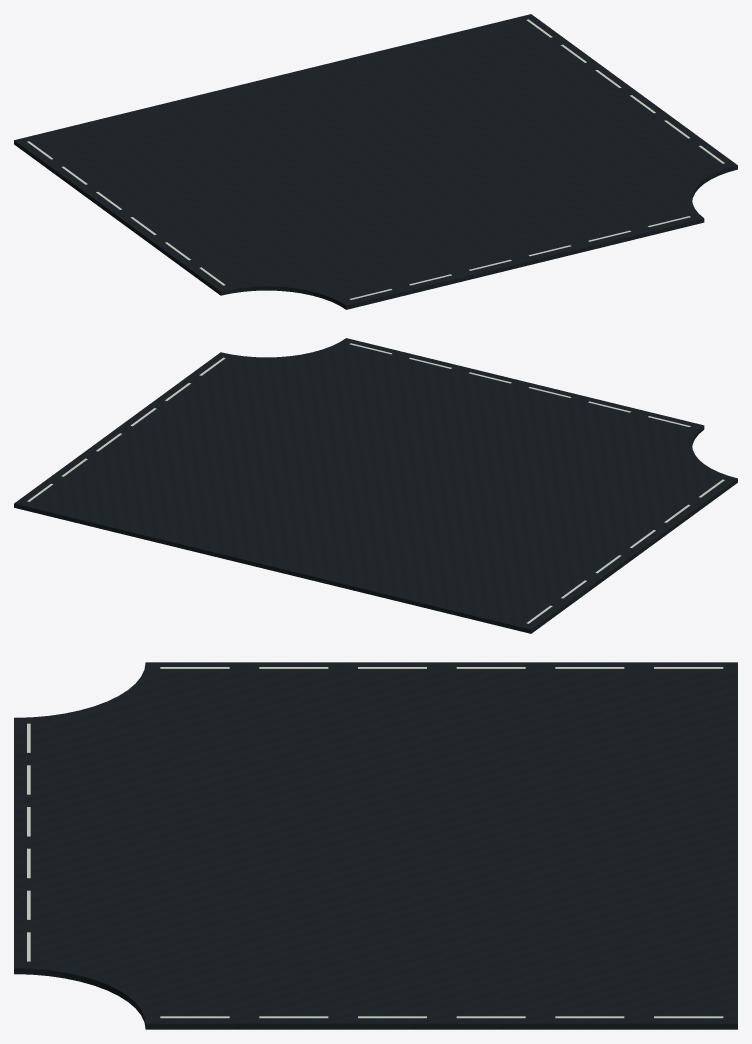
File: Transit_Road_6L_TJunction_R4.glb
The picture shows the model from 3 angles, top to bottom: view 1: azimuth 30°, elevation 25°; view 2: azimuth 150°, elevation 25°; view 3: azimuth 270°, elevation 25°; orthographic projection. The views are drawn at different scales.
Parts seen in each view (by area): view 1: Transit_Road_6L_TJunction_R4_Surface, Transit_Road_6L_TJunction_R4_MarkStop2; view 2: Transit_Road_6L_TJunction_R4_Surface, Transit_Road_6L_TJunction_R4_MarkStop2; view 3: Transit_Road_6L_TJunction_R4_Surface, Transit_Road_6L_TJunction_R4_MarkStop1, Transit_Road_6L_TJunction_R4_MarkStop0, Transit_Road_6L_TJunction_R4_MarkStop2.
Part boxes in pixels (x1=…): Transit_Road_6L_TJunction_R4_Surface: x1=14, y1=14, x2=737, y2=309; Transit_Road_6L_TJunction_R4_MarkStop2: x1=349, y1=216, x2=690, y2=299; Transit_Road_6L_TJunction_R4_Surface: x1=14, y1=338, x2=737, y2=633; Transit_Road_6L_TJunction_R4_MarkStop2: x1=349, y1=343, x2=690, y2=427; Transit_Road_6L_TJunction_R4_Surface: x1=14, y1=662, x2=737, y2=1029; Transit_Road_6L_TJunction_R4_MarkStop1: x1=160, y1=1016, x2=723, y2=1018; Transit_Road_6L_TJunction_R4_MarkStop0: x1=160, y1=667, x2=723, y2=668; Transit_Road_6L_TJunction_R4_MarkStop2: x1=27, y1=723, x2=30, y2=961.
Bounding box in the file's own units: 26 × 0.2165 × 22.
Materials: 2 (1 with a texture image).
